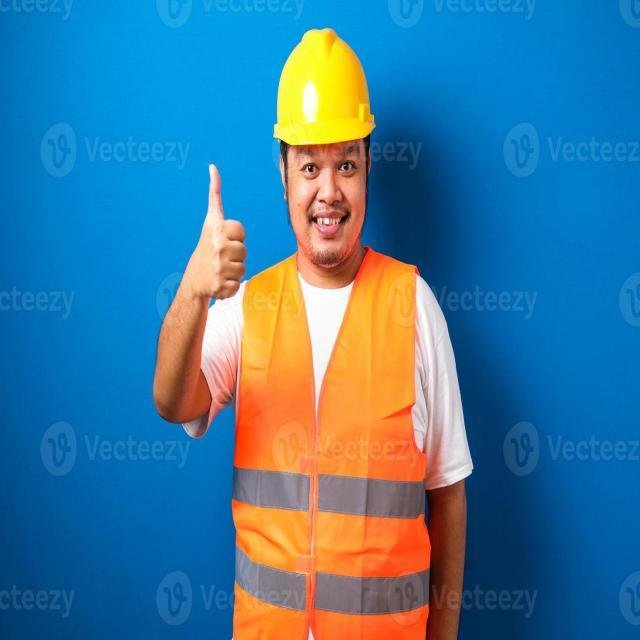helmet: (272, 37, 394, 174)
jacket: (233, 273, 440, 636)
